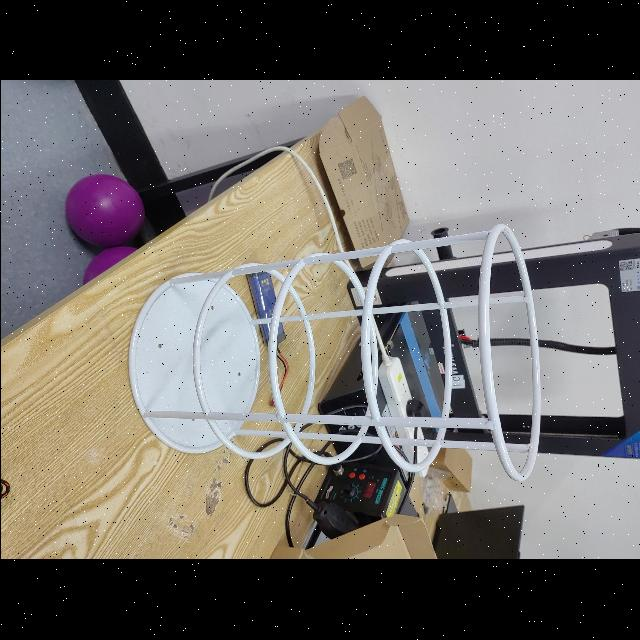S: (126, 221, 544, 485)
